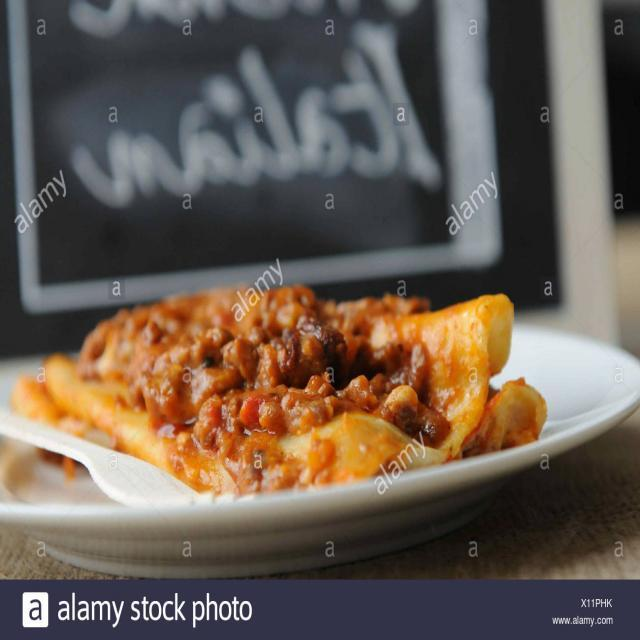Pasta al ragu: (55, 248, 595, 522)
